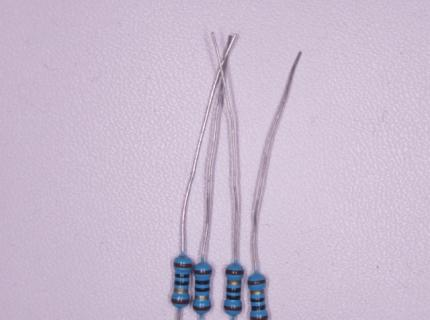Black band: (226, 287, 241, 294), (251, 305, 266, 312), (174, 273, 190, 279), (174, 280, 189, 286), (195, 279, 210, 285), (195, 287, 210, 293), (251, 297, 266, 303), (226, 294, 240, 300)
Brown band: (173, 262, 192, 269), (248, 279, 267, 286), (171, 298, 189, 305), (224, 305, 242, 311), (193, 305, 211, 311), (193, 270, 212, 275), (225, 270, 244, 275), (250, 315, 269, 319)
Gold band: (173, 288, 188, 294), (195, 295, 210, 300), (227, 280, 242, 285), (250, 290, 265, 295)
